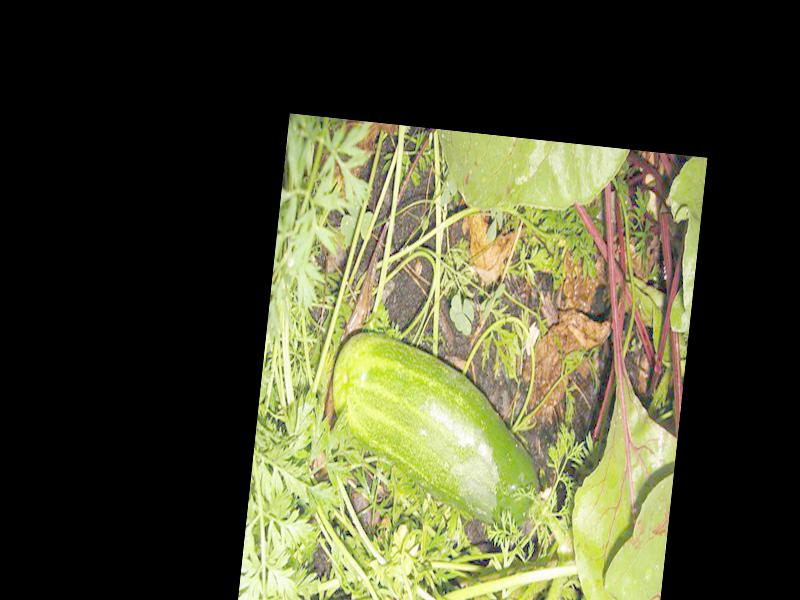Cucumber: (321, 327, 553, 537)
